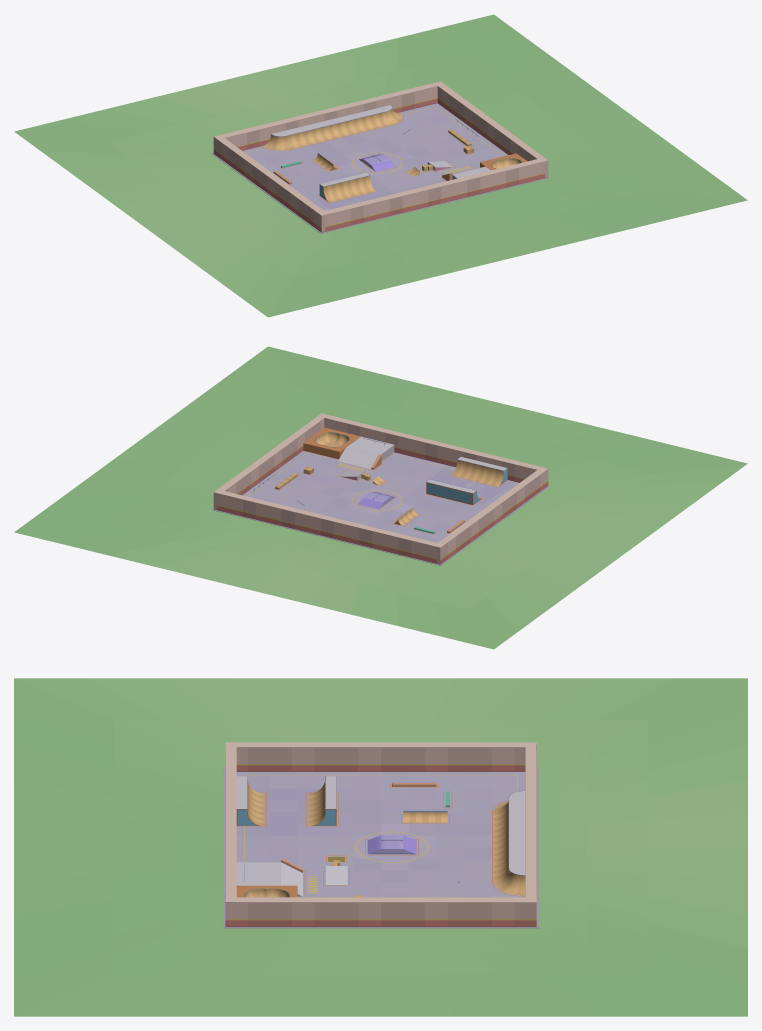
Rendered from warehouse.glb.
3 views of the same model, one above another, from view 1: azimuth 30°, elevation 25°; view 2: azimuth 150°, elevation 25°; view 3: azimuth 270°, elevation 25° (orthographic). The views are drawn at different scales.
Parts seen in each view (by area): view 1: park; view 2: park; view 3: park.
Boxes of the visible parts, bbox=[...] form: park: bbox=[14, 14, 747, 317]; park: bbox=[14, 346, 747, 649]; park: bbox=[14, 678, 747, 1016].
Bounding box in the file's own units: 144 × 5.08 × 132.
